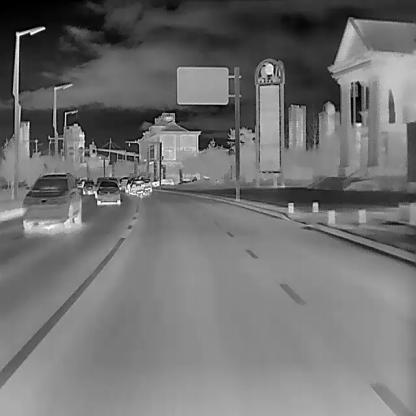car: (22, 171, 82, 234), (96, 178, 120, 204), (130, 178, 145, 194), (82, 177, 95, 195), (140, 178, 151, 194), (120, 175, 131, 189)
